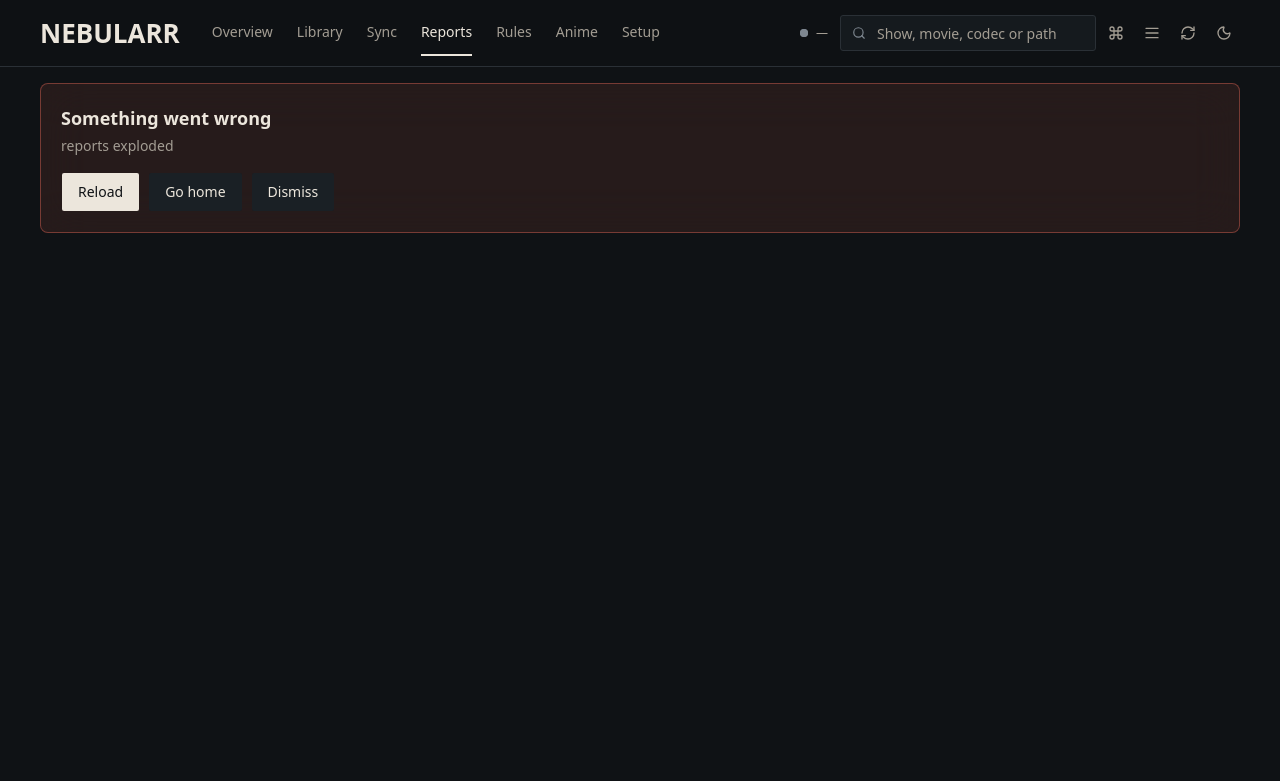
Test: App › RouteErrorBoundary › catches a render error on one route and recovers via key-remount after navigating away
Expected: the message shows "Something went wrong", left=61, top=106, right=271, bottom=130
Click the link "Overview". click: (242, 32)
box: left=212, top=22, right=273, bottom=41
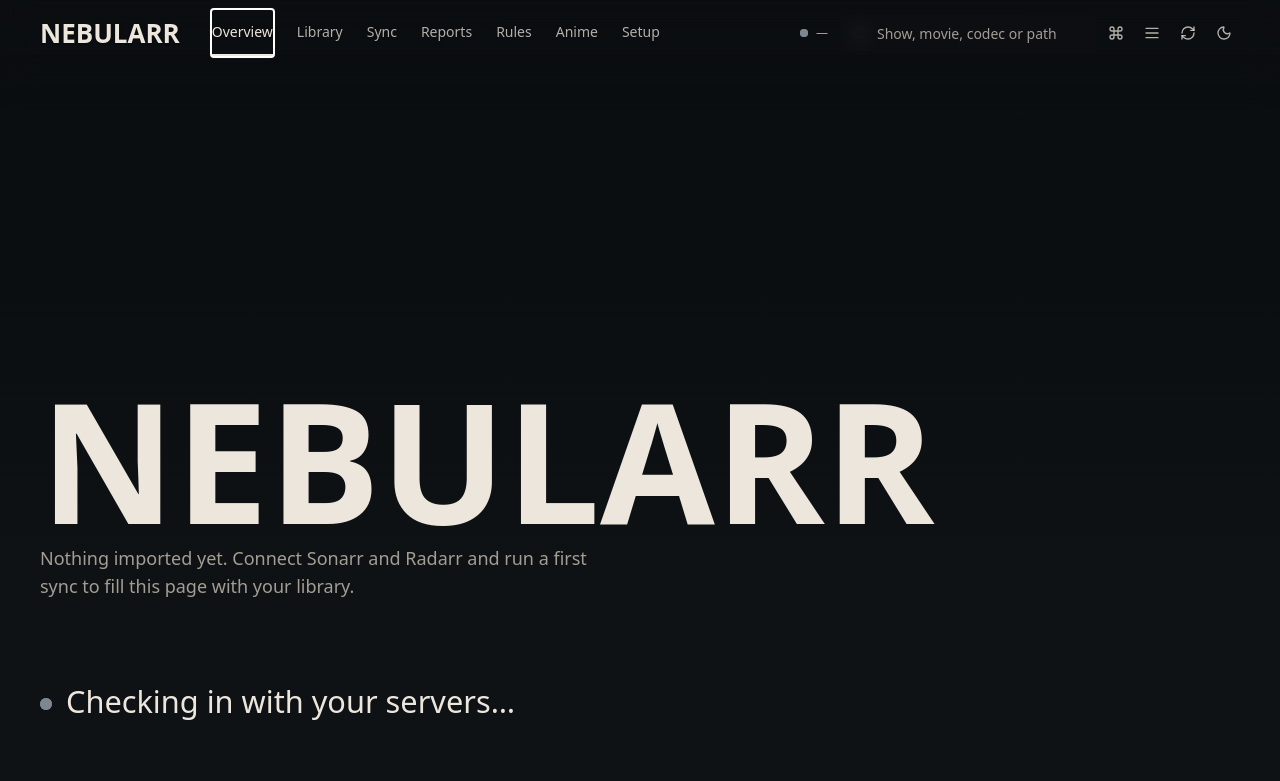
Result: the heading "Nebularr" is shown at left=40, top=346, right=934, bottom=572
Result: the message "Something went wrong reports exploded Reload Go home Dismiss" is gone
